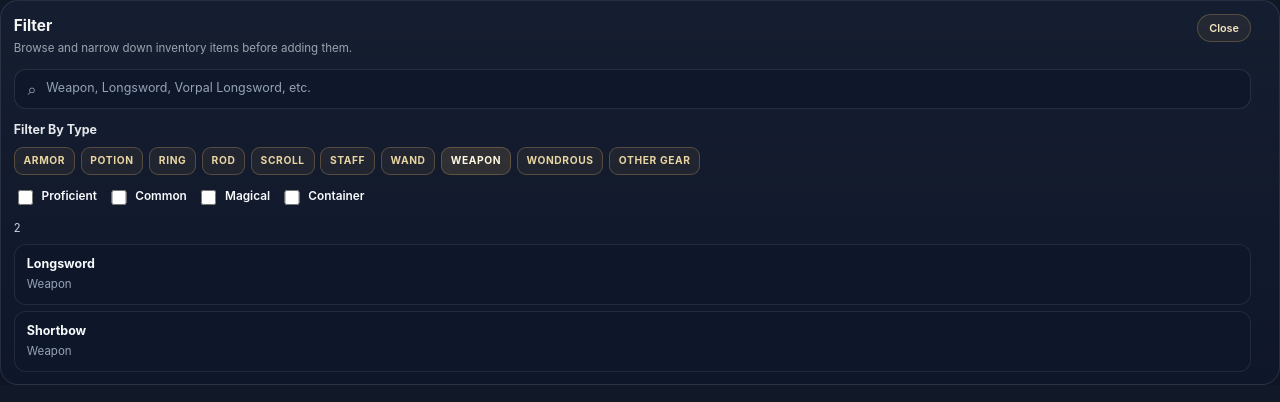
Test: InventoryLibrarySidebar › filters items by type, text search, and boolean flags
This screenshot has width=1280, height=402.
Click the button "Potion" at (112, 161), box [81,147,144,175]
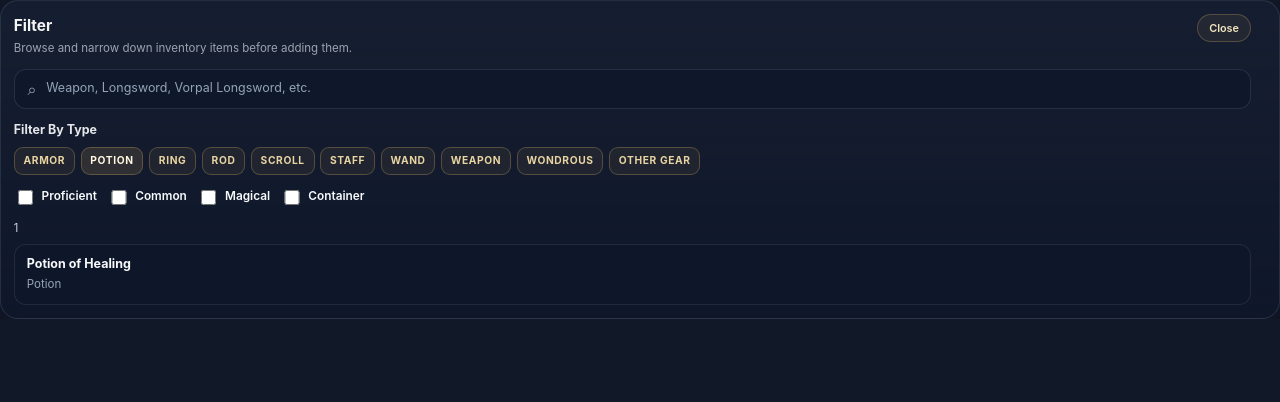
expect the text "Potion of Healing" is shown: met, box [27,256,131,271]
Type "healing" into the search field at (642, 89), box [46,70,1238,108]
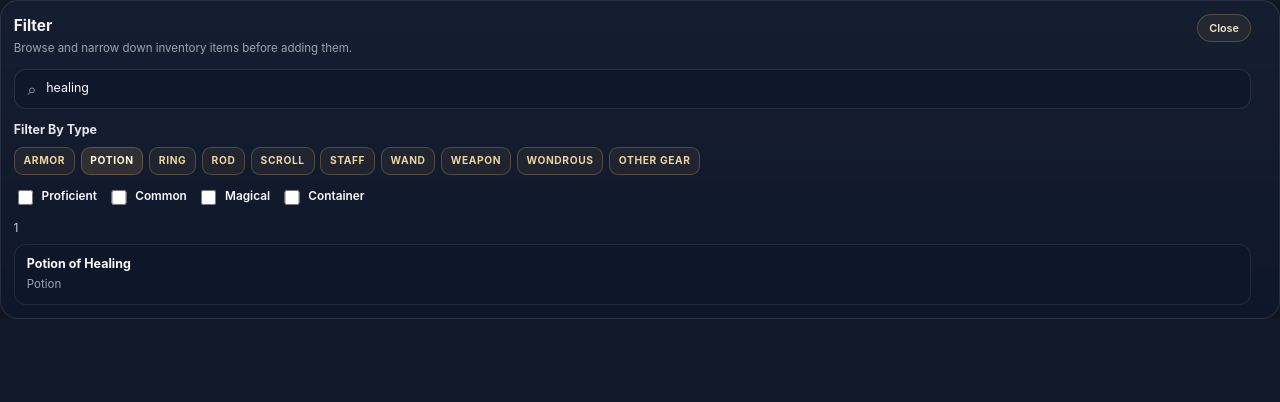
expect the text "Potion of Healing" is shown: met, box [27,256,131,271]
expect the text "1" is shown: met, box [14,220,18,237]
Click the checkbox labelled "Magical" at (209, 197), box [201,190,216,205]
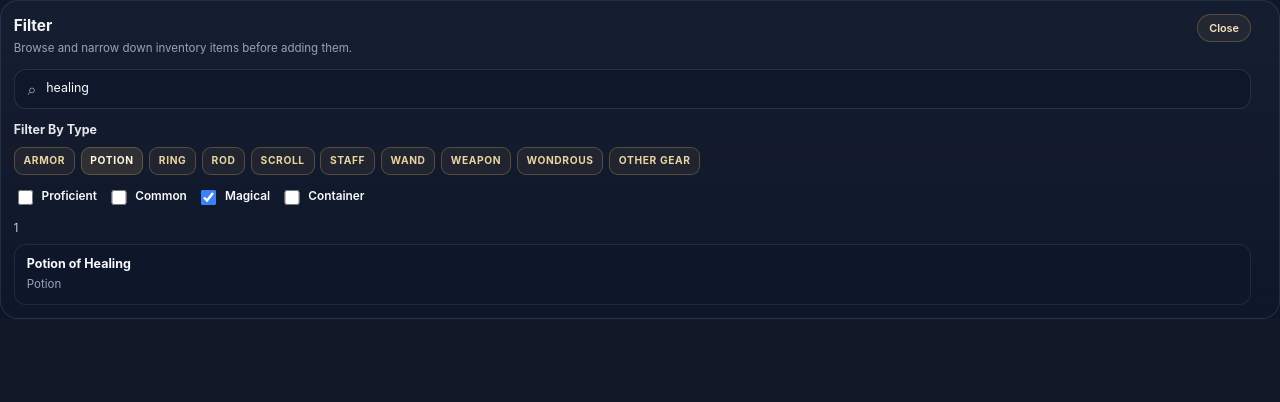
expect the text "Potion of Healing" is shown: met, box [27,256,131,271]
Click the checkbox labelled "Proficient" at (25, 197), box [18,190,33,205]
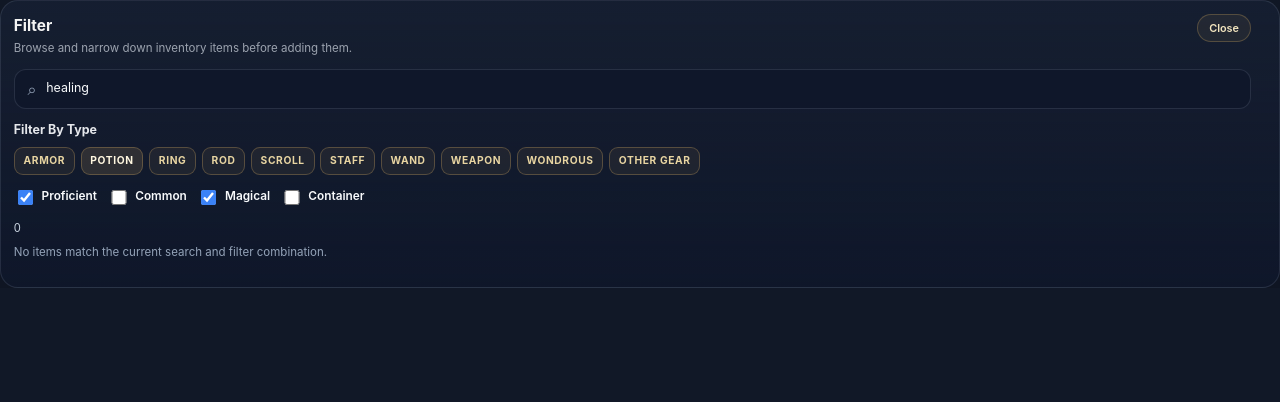
expect the text "No items match the current search and filter combination." is shown: met, box [14,245,327,259]
expect the text "0" is shown: met, box [14,220,21,237]
